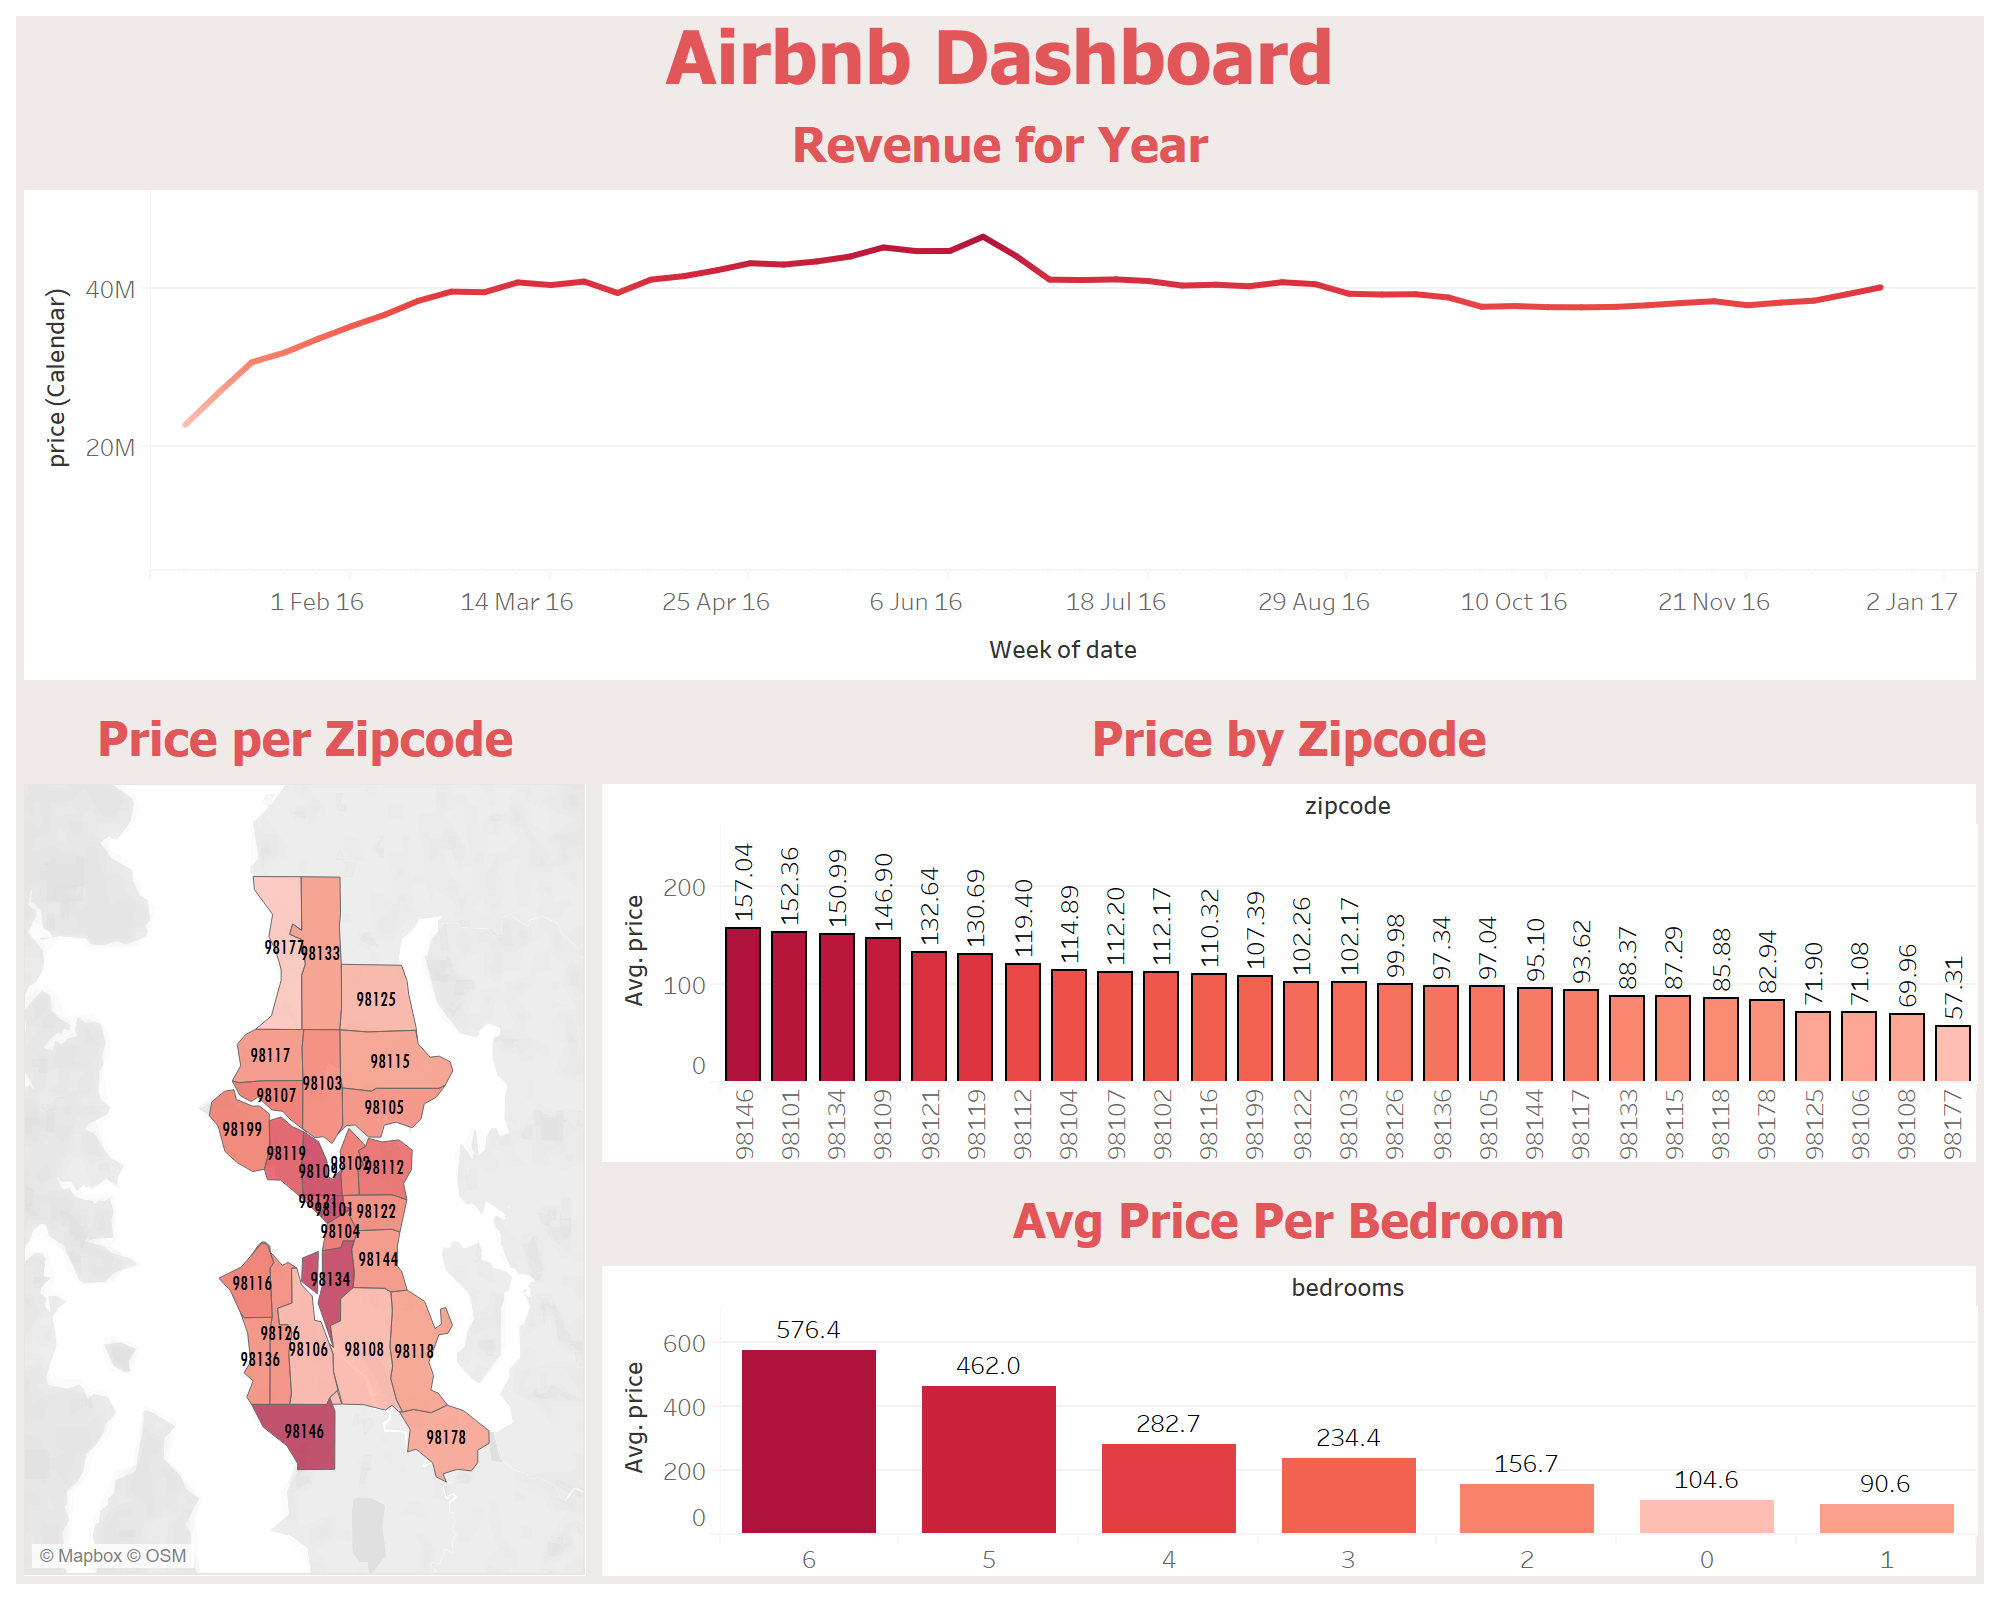

The dashboard page shown, as its layout file describes it:
{"tool":"tableau","page":{"name":"Dashboard 1","canvas":[1000,800],"ordinal":0},"visuals":[{"type":"text","box":[8,8,984,39]},{"type":"worksheet","title":"Revenue for Year ","mark":"Automatic","rows":["price (Calendar)"],"cols":["date"],"box":[8,47,984,297]},{"type":"worksheet","title":"Price per Zipcode ","mark":"Multipolygon","box":[8,344,289,448]},{"type":"worksheet","title":"Price by zipcode ","mark":"Automatic","rows":["price"],"cols":["zipcode"],"box":[297,344,695,241]},{"type":"worksheet","title":"Avg Price Per Badroom","mark":"Automatic","rows":["price"],"cols":["bedrooms"],"box":[297,585,695,207]}]}

Visuals, with their boxes in screenshot pixels (x1, y1, x2, y2), scaled from the page's 1000x800 canvas onto the 2000x1600 screenshot:
text: 16:16:1984:94
"Revenue for Year " worksheet: 16:94:1984:688
"Price per Zipcode " worksheet (Multipolygon marks): 16:688:594:1584
"Price by zipcode " worksheet: 594:688:1984:1170
"Avg Price Per Badroom" worksheet: 594:1170:1984:1584
